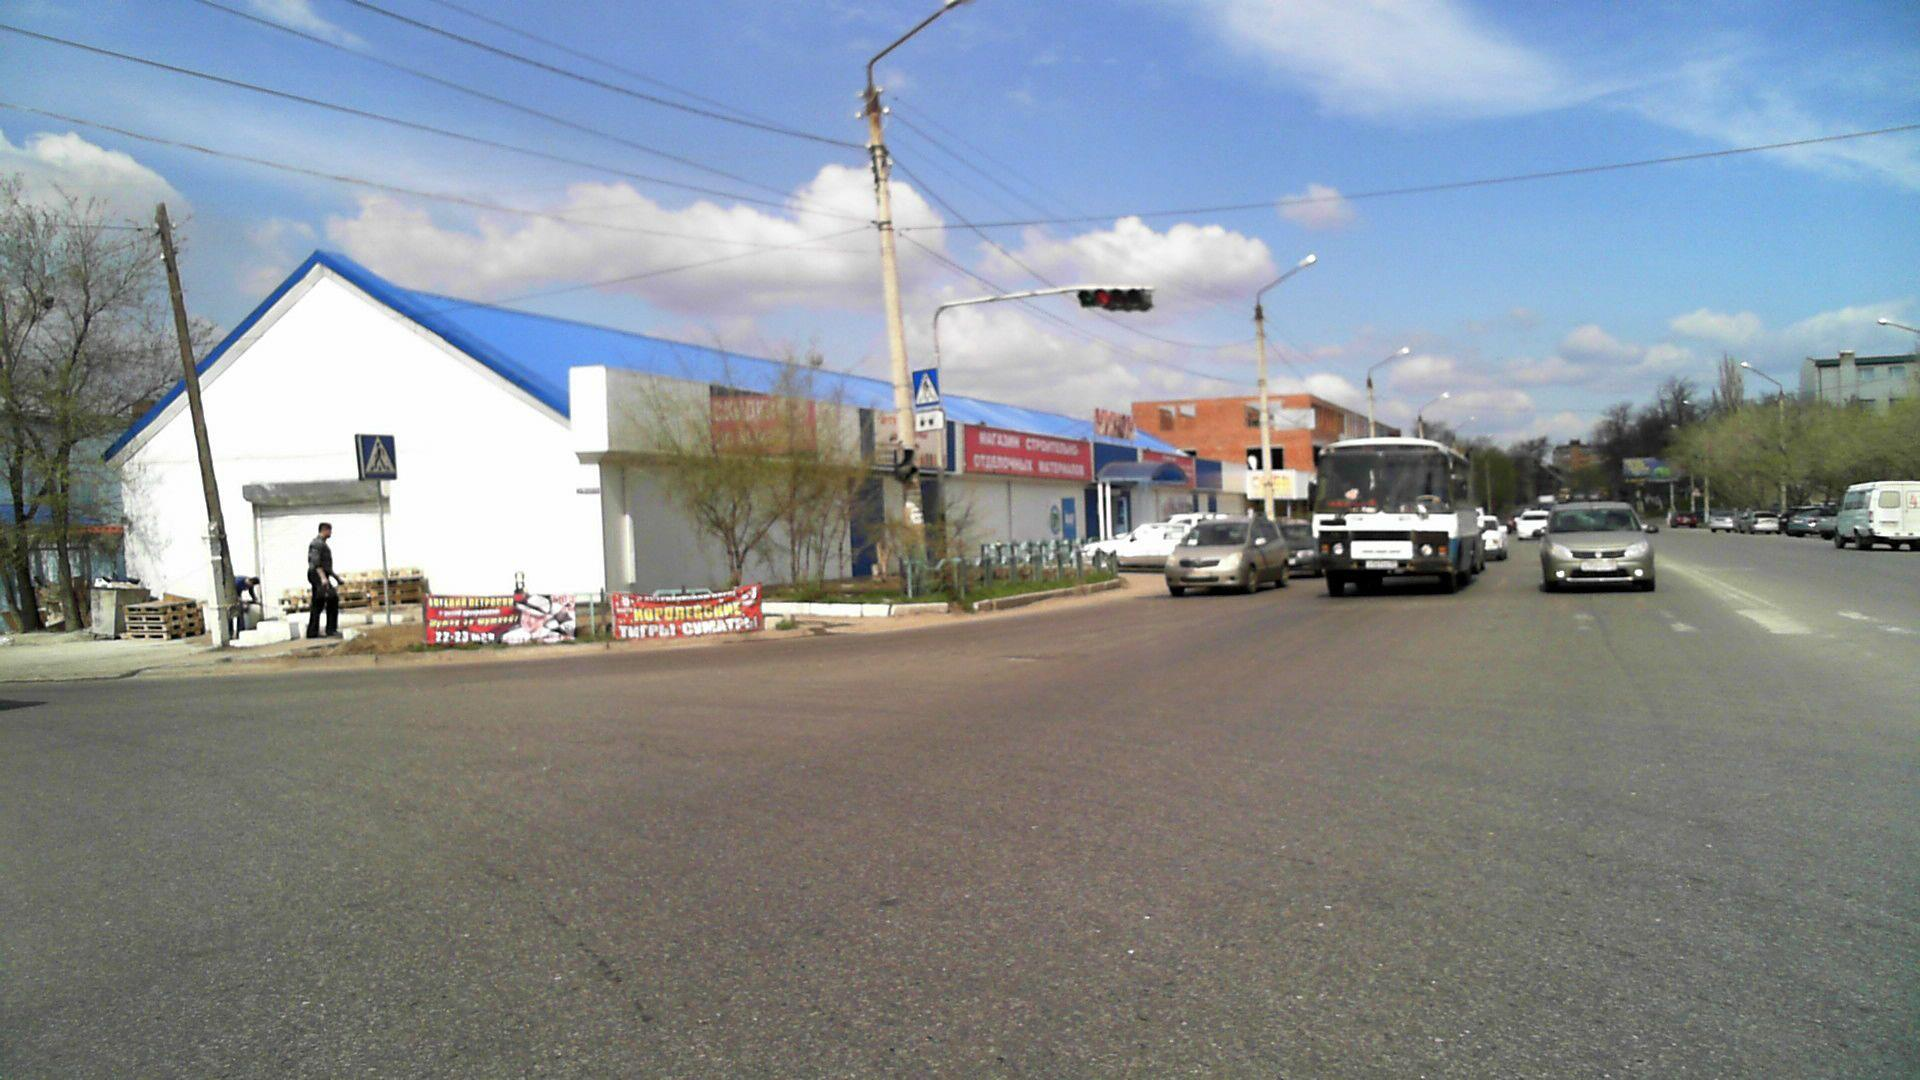5_19_1: (356, 431, 402, 479)
5_19_2: (910, 367, 943, 407)
8_15: (913, 407, 944, 433)
